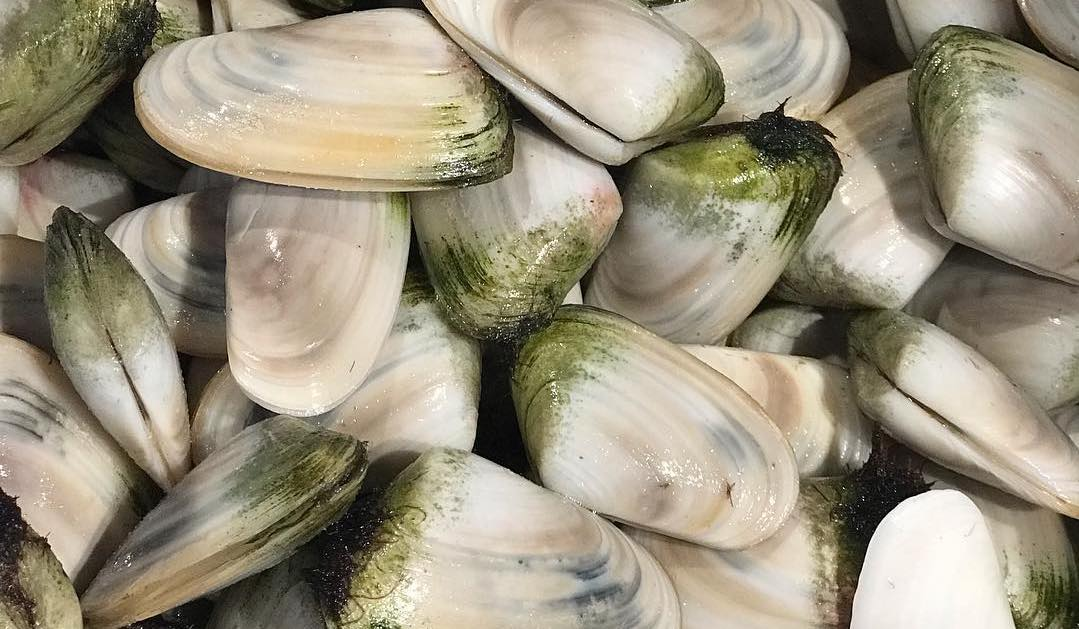tuatua: (506, 297, 808, 560), (122, 7, 512, 193), (321, 445, 670, 629), (75, 416, 370, 617), (589, 110, 845, 336), (836, 302, 1079, 528), (420, 1, 725, 176), (406, 119, 626, 344), (218, 169, 409, 424), (34, 201, 196, 498), (906, 16, 1079, 286), (785, 64, 970, 314)
